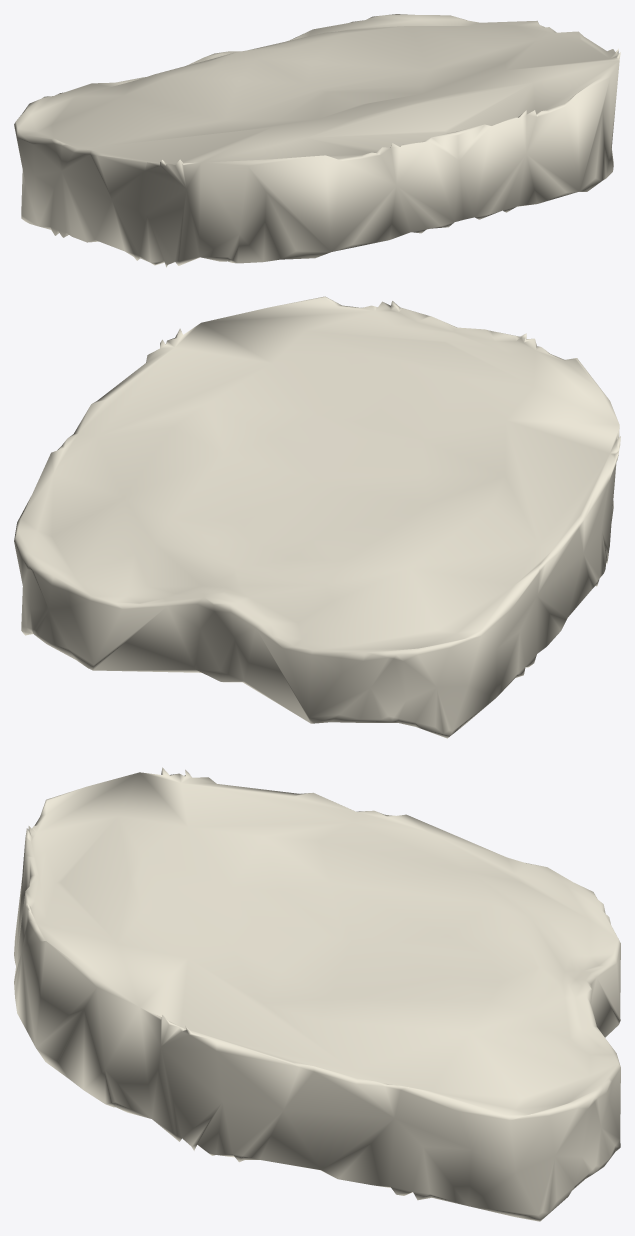
3 views of the same model, one above another, from view 1: azimuth 30°, elevation 25°; view 2: azimuth 150°, elevation 25°; view 3: azimuth 270°, elevation 25° (orthographic). The views are drawn at different scales.
Parts seen in each view (by area): view 1: ZA_17a94f410388b997; view 2: ZA_17a94f410388b997; view 3: ZA_17a94f410388b997.
Boxes of the visible parts, box(x1,y1,x2,y2) form: ZA_17a94f410388b997: box(14, 14, 620, 267); ZA_17a94f410388b997: box(14, 296, 620, 738); ZA_17a94f410388b997: box(14, 767, 620, 1221).
Size of the model in its own units: 0.037 by 0.015 by 0.0346.
